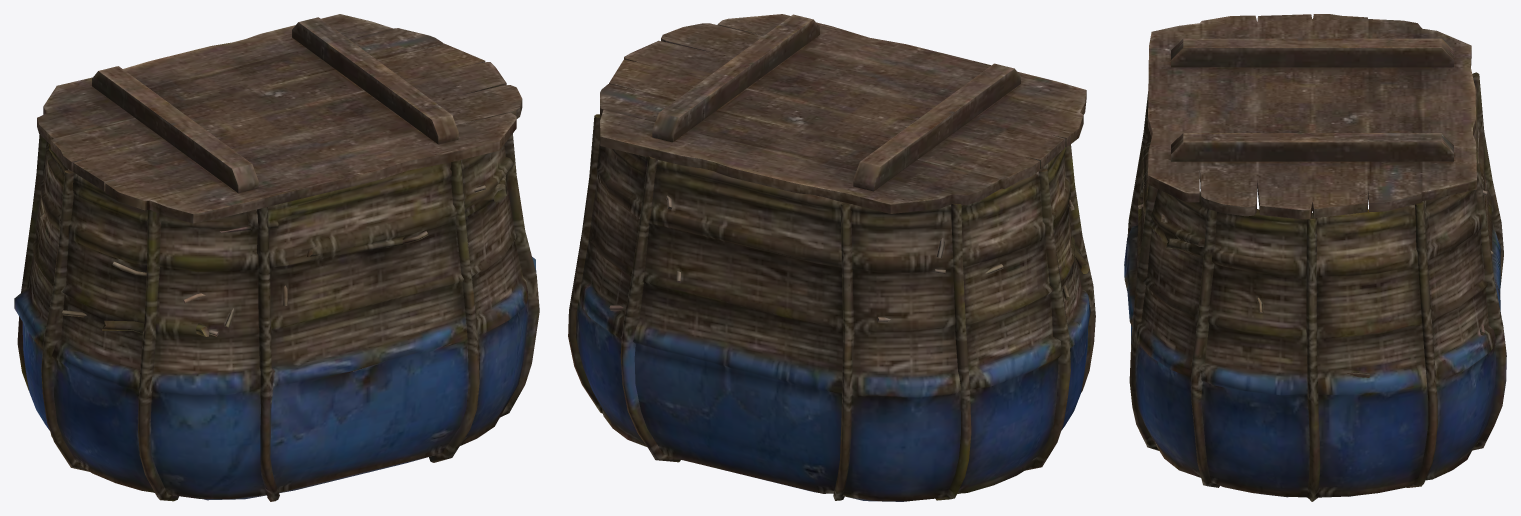
File: wicker_barrel.glb
The picture shows the model from 3 angles, left to right: view 1: azimuth 30°, elevation 25°; view 2: azimuth 150°, elevation 25°; view 3: azimuth 270°, elevation 25°; orthographic projection. The views are drawn at different scales.
Parts seen in each view (by area): view 1: model; view 2: model; view 3: model.
Part boxes in pixels (x1=…): model: x1=14, y1=14, x2=539, y2=501; model: x1=568, y1=14, x2=1095, y2=501; model: x1=1124, y1=14, x2=1506, y2=501.
Size of the model in its own units: 1.34 by 0.9141 by 0.9774.
Materials: 1 (1 with a texture image).
